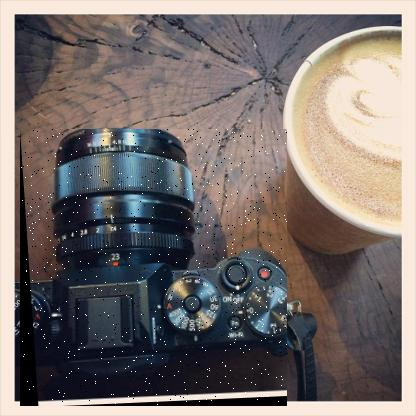Camera: (22, 130, 290, 408)
